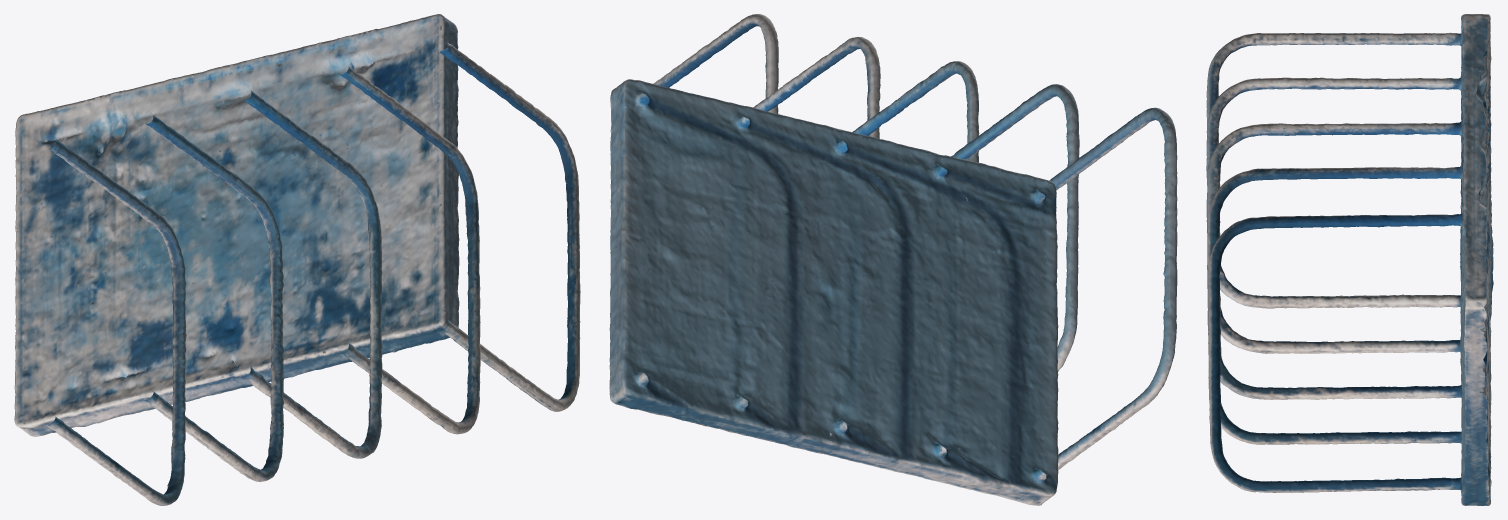
The model's file is sorter.glb.
3 renders of one model, left to right at view 1: azimuth 30°, elevation 25°; view 2: azimuth 150°, elevation 25°; view 3: azimuth 270°, elevation 25°, orthographic. The views are drawn at different scales.
Bounding box in the file's own units: 1 × 0.7043 × 0.6043.
